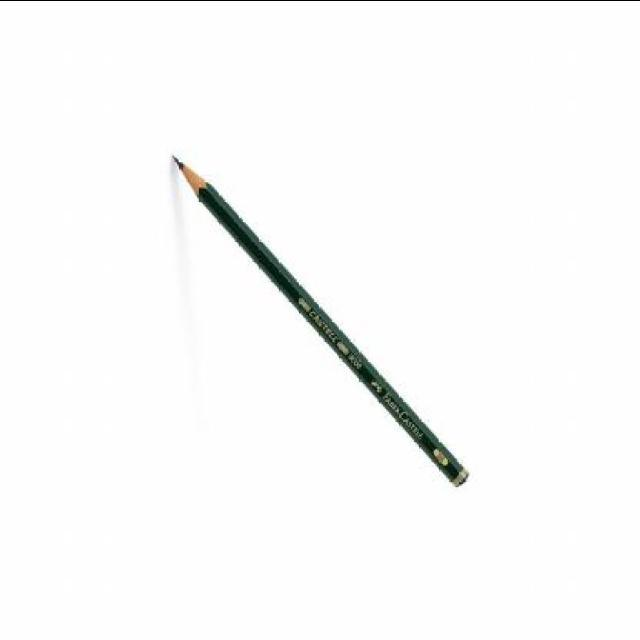pencil: (164, 146, 222, 202)
